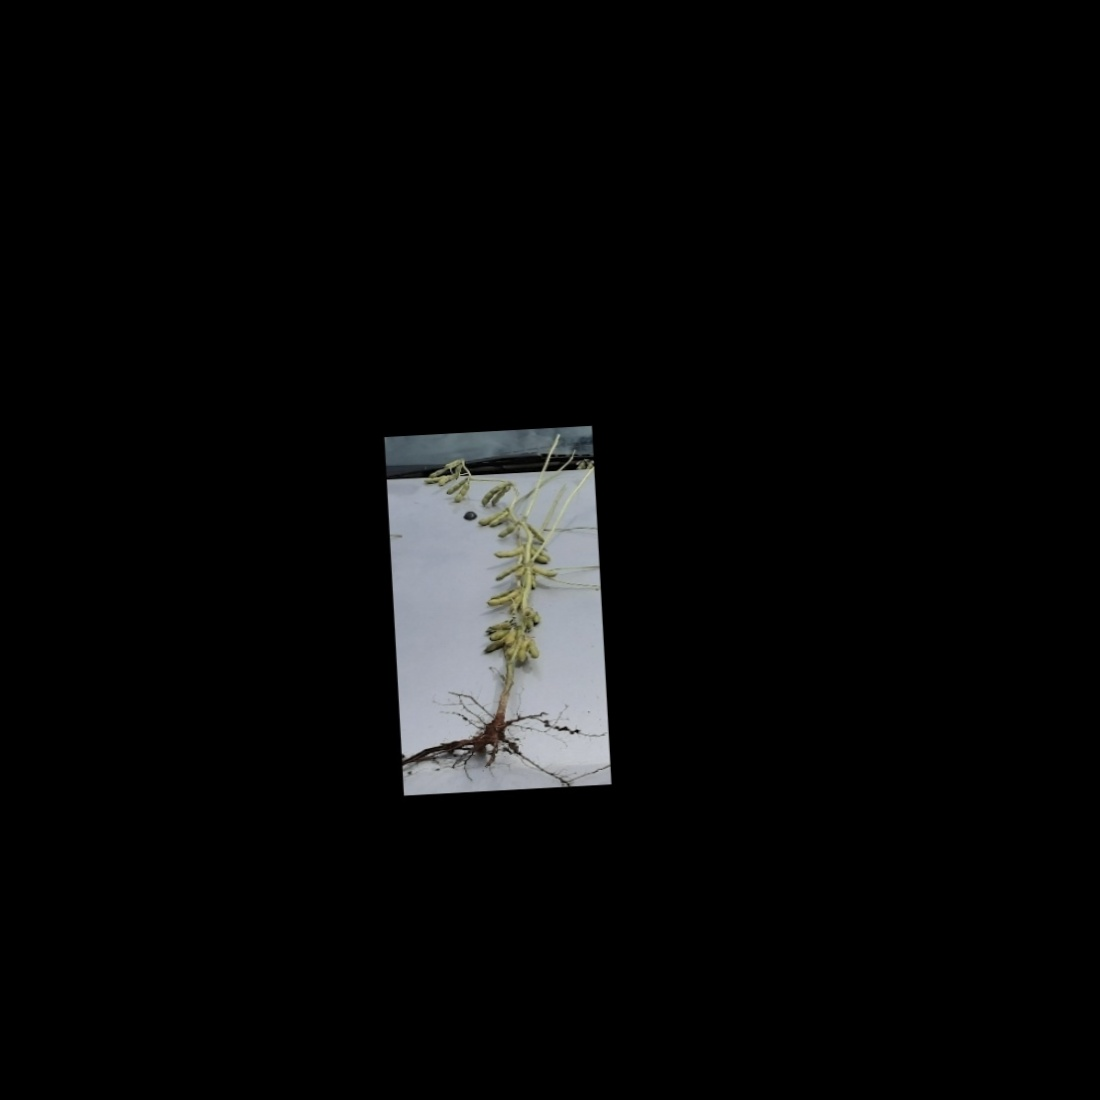pod: (489, 560, 527, 585), (483, 589, 526, 610), (476, 483, 511, 508), (487, 482, 511, 511), (488, 545, 529, 561), (443, 475, 469, 498), (529, 566, 563, 580), (424, 464, 452, 482), (452, 479, 470, 506), (526, 638, 543, 661), (440, 458, 460, 471)
soy: (408, 439, 591, 762)
